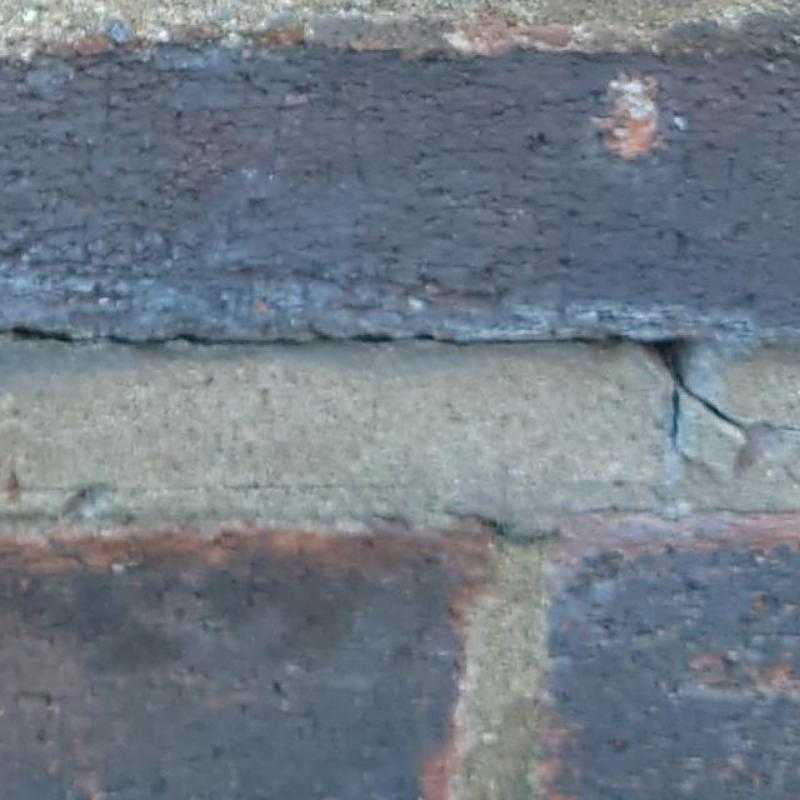pothole: (0, 325, 639, 349), (639, 341, 738, 424), (670, 392, 678, 439)
